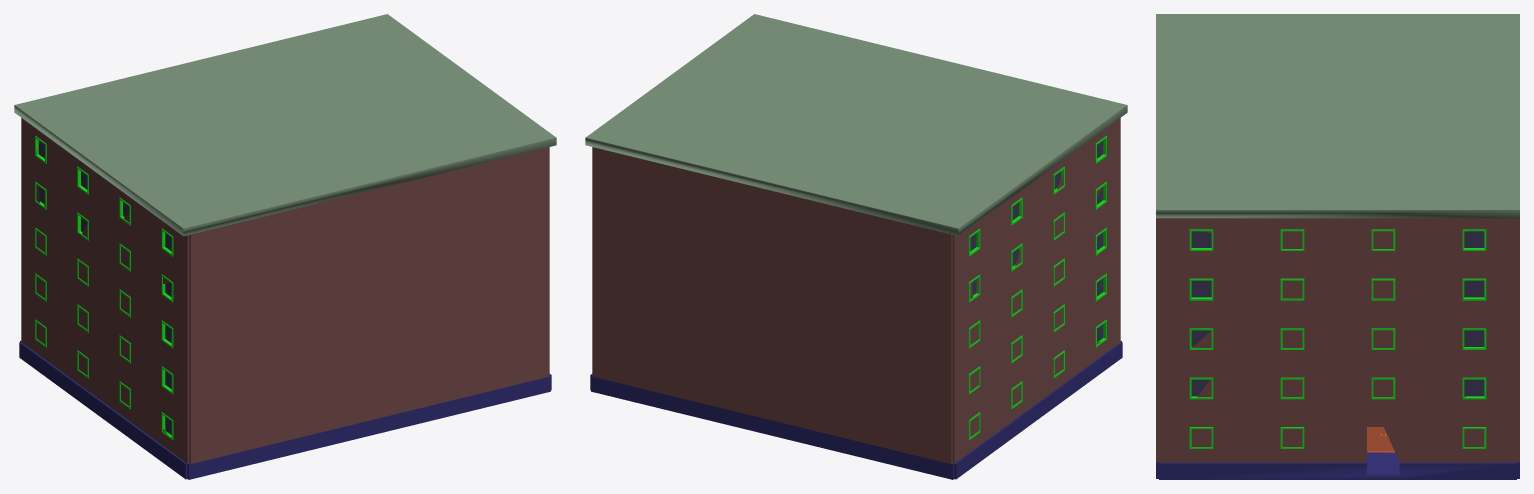
3 renders of one model, left to right at view 1: azimuth 30°, elevation 25°; view 2: azimuth 150°, elevation 25°; view 3: azimuth 270°, elevation 25°, orthographic. The views are drawn at different scales.
Parts seen in each view (by area): view 1: BR20_F05_02; view 2: BR20_F05_02; view 3: BR20_F05_02.
Part boxes in pixels (left/top/right/bottom): BR20_F05_02: left=14, top=14, right=556, bottom=479; BR20_F05_02: left=585, top=14, right=1127, bottom=479; BR20_F05_02: left=1156, top=14, right=1519, bottom=479.
Size of the model in its own units: 2550 by 1650 by 2000.
